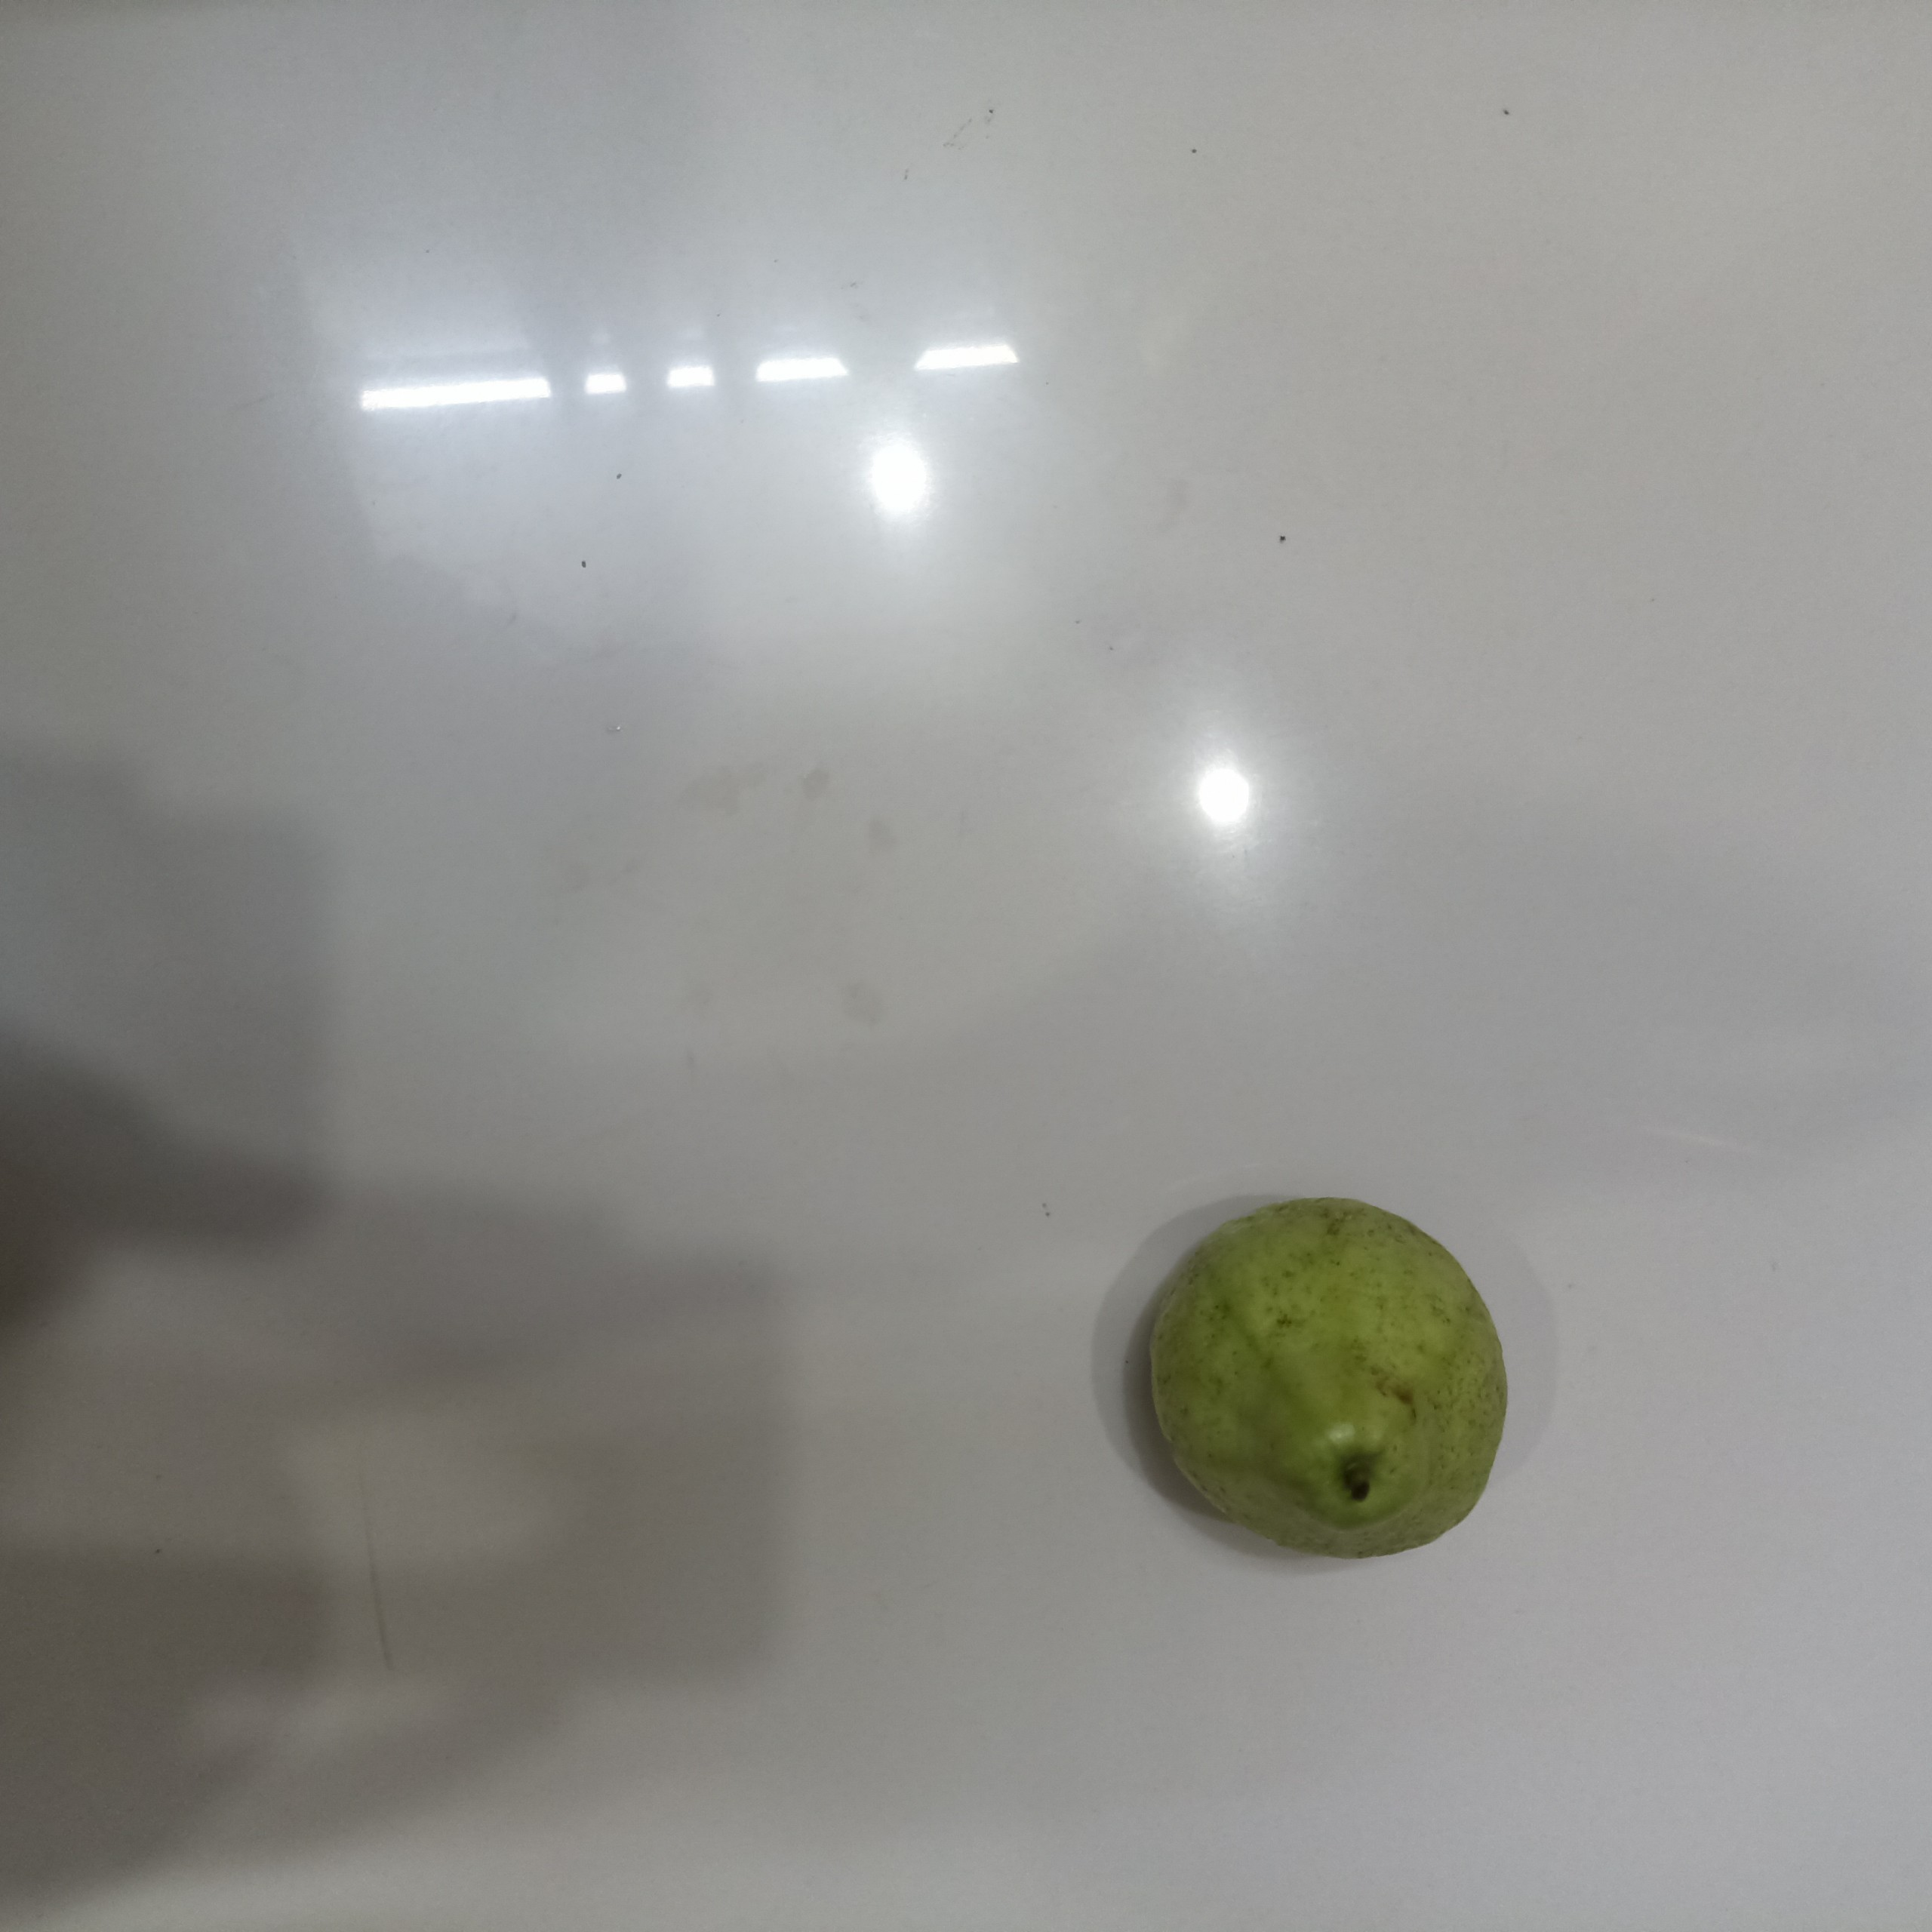Oi: (1148, 1189, 1511, 1564)
